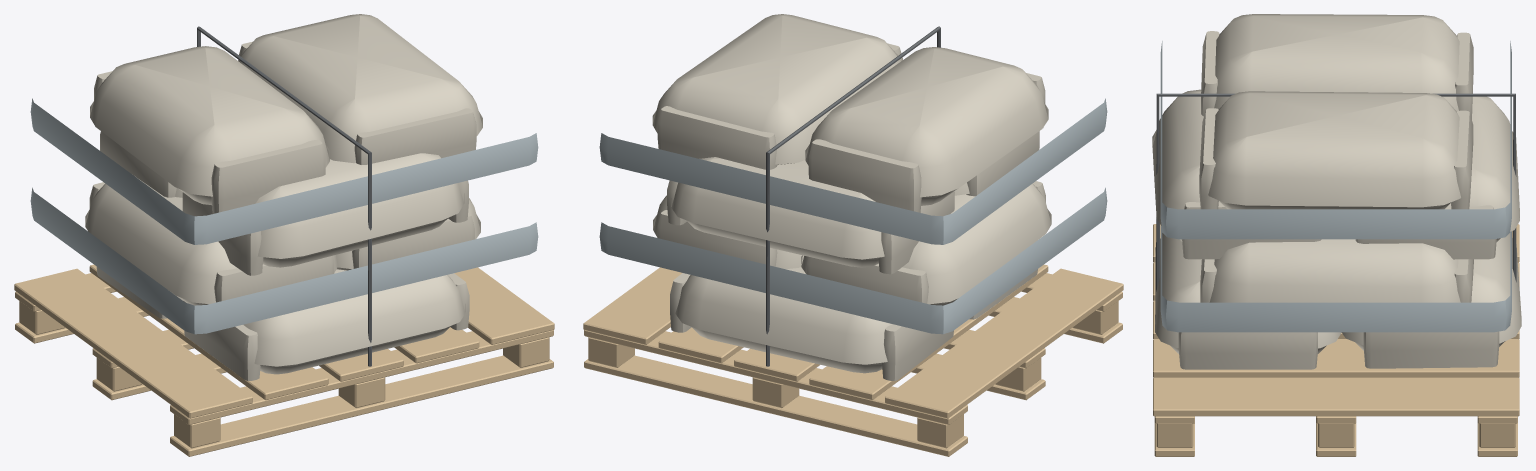
The model's file is compost-bag-pallet.glb.
The picture shows the model from 3 angles, left to right: view 1: azimuth 30°, elevation 25°; view 2: azimuth 150°, elevation 25°; view 3: azimuth 270°, elevation 25°; orthographic projection. The views are drawn at different scales.
Parts seen in each view (by area): view 1: compost-bag-pallet; view 2: compost-bag-pallet; view 3: compost-bag-pallet.
Part boxes in pixels (left/top/right/bottom): compost-bag-pallet: left=14, top=14, right=554, bottom=456; compost-bag-pallet: left=583, top=14, right=1123, bottom=456; compost-bag-pallet: left=1152, top=14, right=1521, bottom=456.
Size of the model in its own units: 1.2 by 0.8791 by 1.01.
